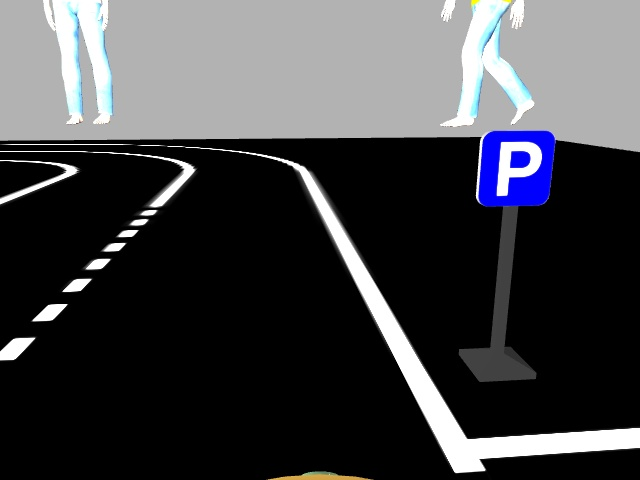Parking: (474, 129, 555, 207)
